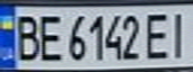1: (84, 11, 106, 62)
2: (121, 10, 145, 61)
4: (103, 10, 124, 61)
6: (63, 10, 87, 62)
B: (9, 10, 42, 62)
E: (142, 9, 175, 61), (36, 10, 66, 62)
I: (166, 8, 193, 60)
